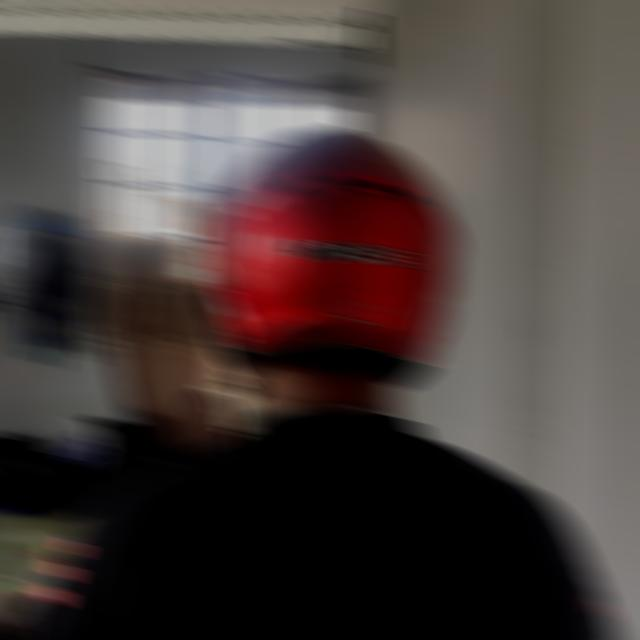With Helmet: (202, 124, 463, 388)
